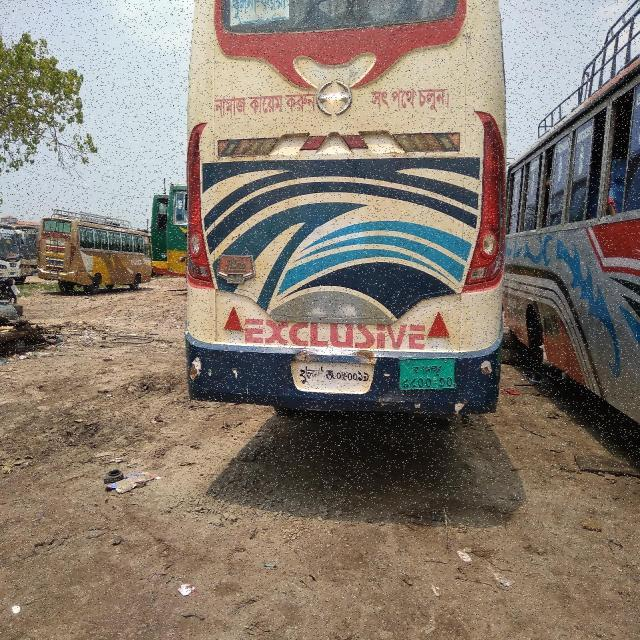numberplate: (289, 359, 375, 394), (398, 357, 458, 390)
